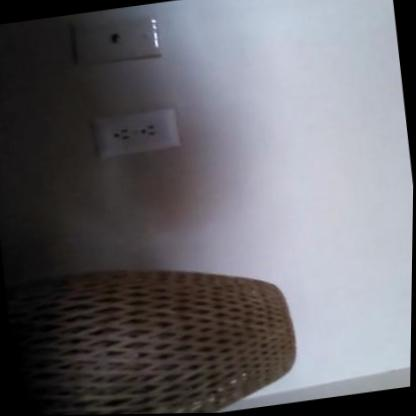OUTLET: (92, 106, 182, 160)
